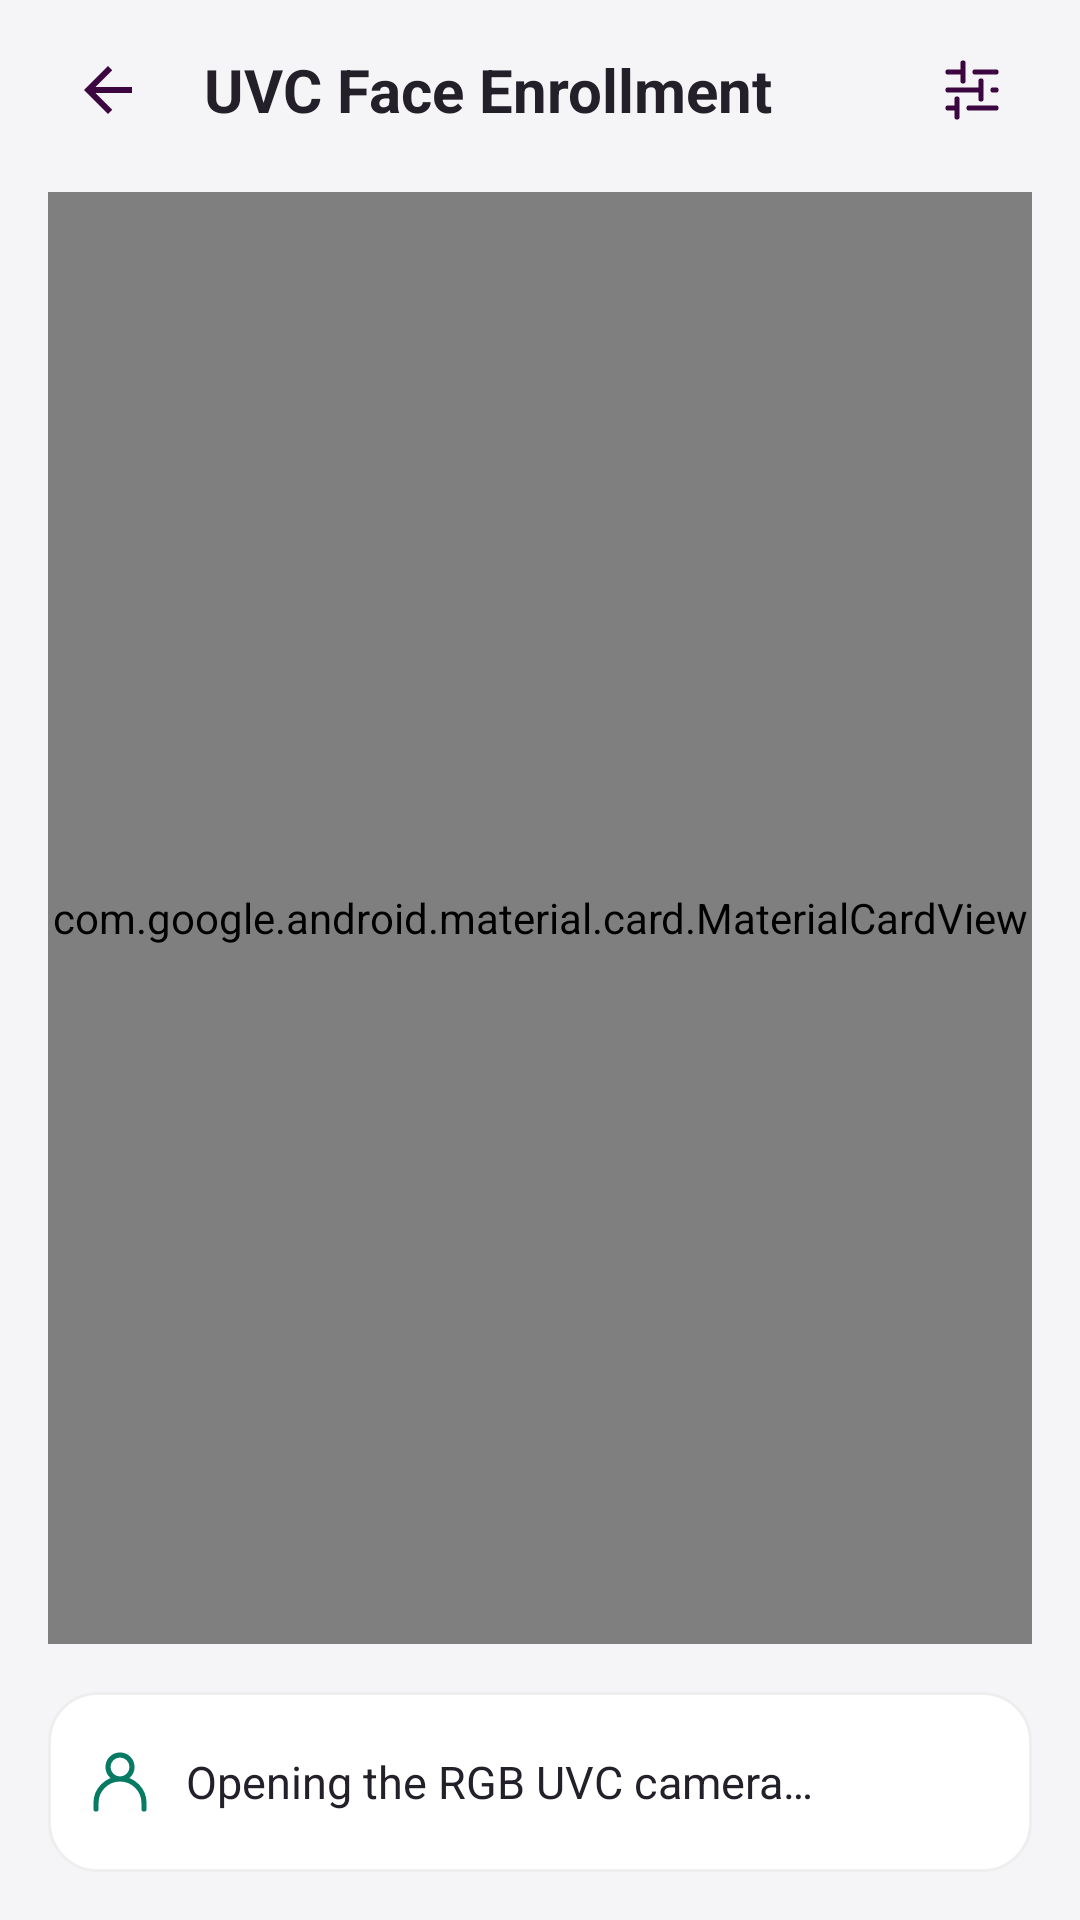

Icon bounding boxes for this 1080×1920 phone screenshot, format (x1, y1, x2, y2):
Enrollment camera settings: (945, 60, 999, 120)
